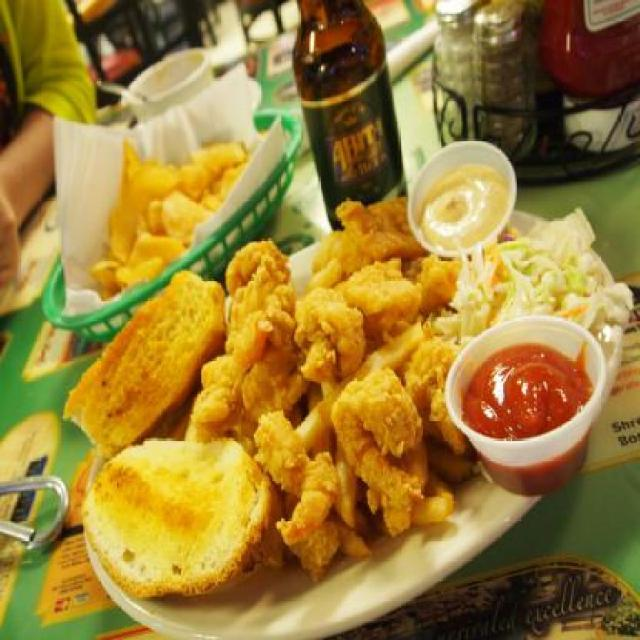French fries: (188, 235, 452, 557)
